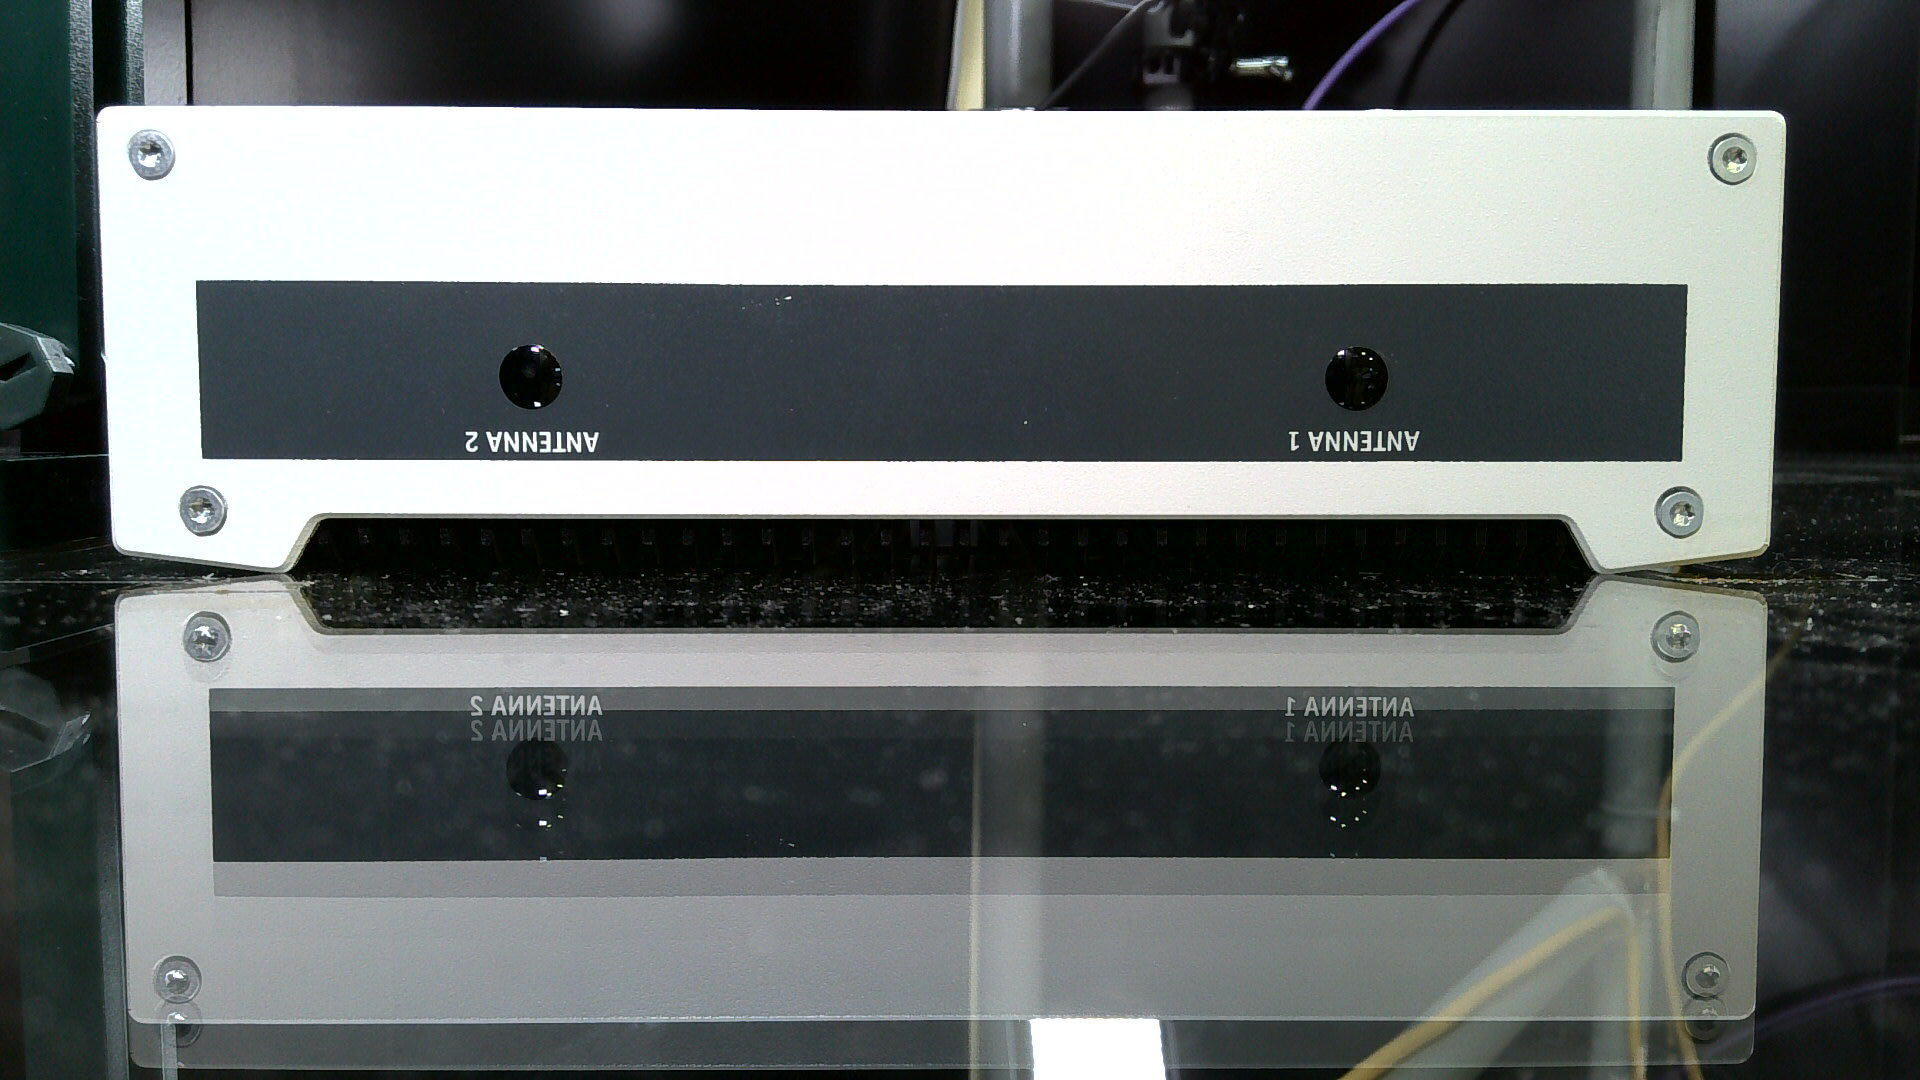CamBack: (62, 73, 1817, 578)
Schraube_gespiegelt: (1672, 944, 1741, 1048), (145, 944, 210, 1052), (175, 603, 239, 691), (1644, 600, 1706, 688)
Schraube_halb: (1700, 123, 1767, 190), (1643, 483, 1716, 545), (120, 123, 186, 186), (167, 481, 233, 543)
